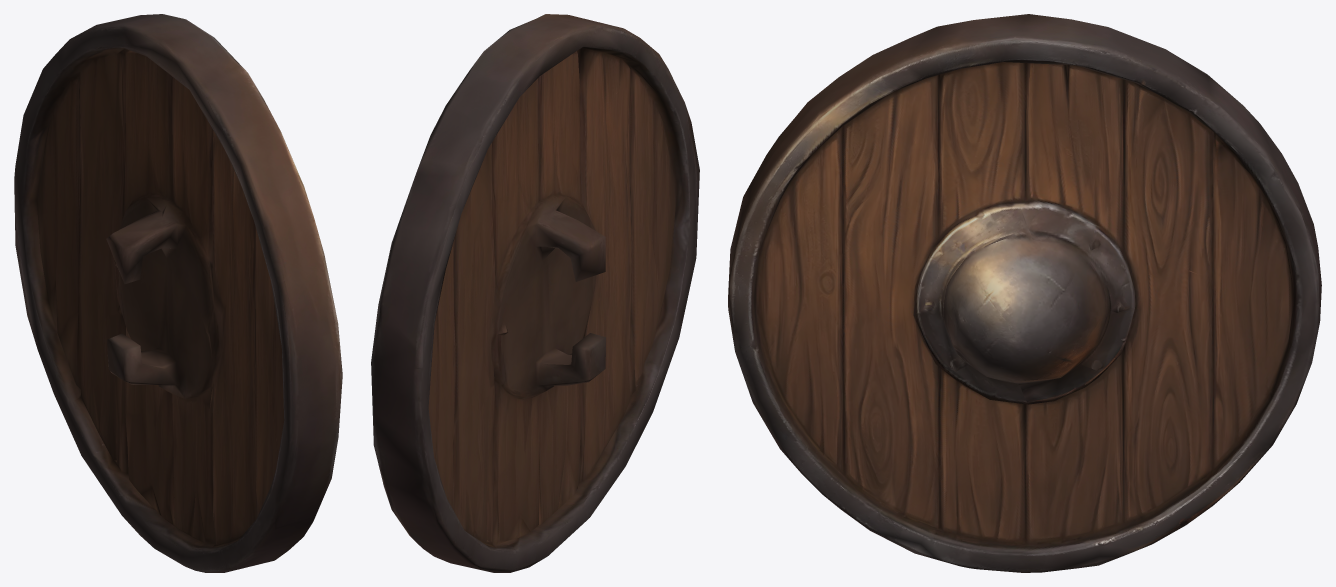
File: escudo-madeira.glb
3 views of the same model, side by side, from view 1: azimuth 30°, elevation 25°; view 2: azimuth 150°, elevation 25°; view 3: azimuth 270°, elevation 25° (orthographic). The views are drawn at different scales.
Visible parts, largest first — view 1: tripo_node_e5072e59-7f44-4cec-b291-008857177cd6; view 2: tripo_node_e5072e59-7f44-4cec-b291-008857177cd6; view 3: tripo_node_e5072e59-7f44-4cec-b291-008857177cd6.
Boxes of the visible parts, x1,y1,x2,y2 form: tripo_node_e5072e59-7f44-4cec-b291-008857177cd6: [14, 14, 342, 572]; tripo_node_e5072e59-7f44-4cec-b291-008857177cd6: [371, 14, 699, 572]; tripo_node_e5072e59-7f44-4cec-b291-008857177cd6: [728, 14, 1321, 572].
Bounding box in the file's own units: 0.1782 × 0.6 × 0.6003.
Materials: 1 (1 with a texture image).
